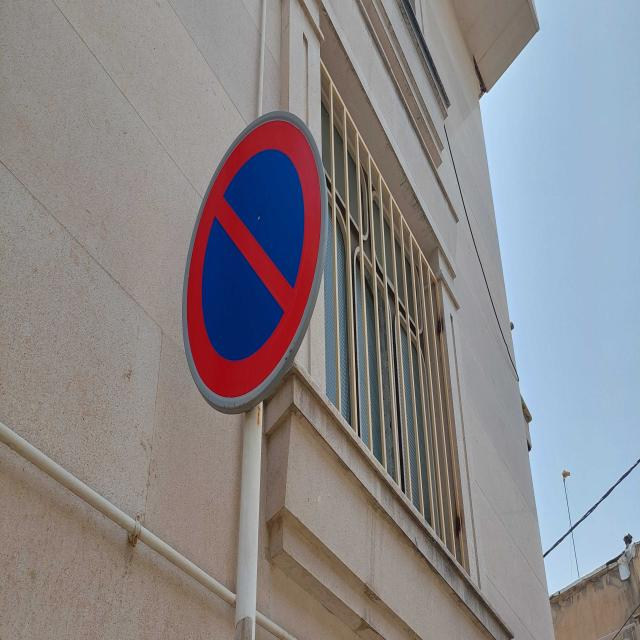forb_stopping: (182, 109, 325, 414)
